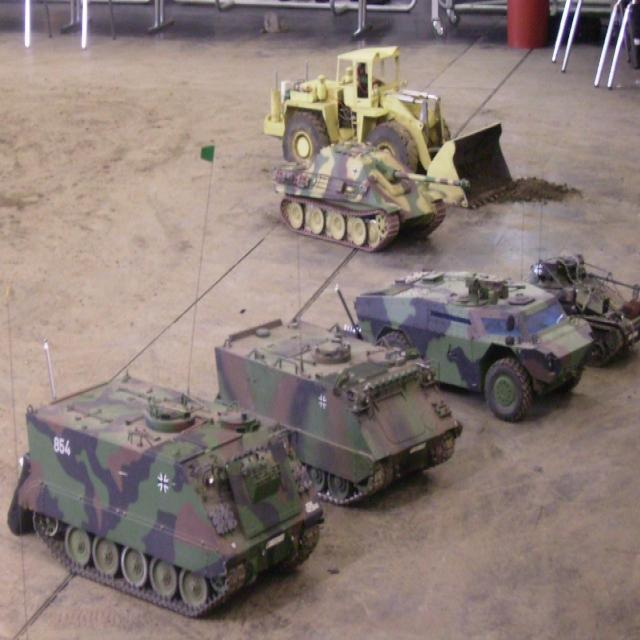Tanks: (2, 357, 328, 619), (213, 316, 462, 509), (354, 270, 596, 422), (267, 137, 474, 259)
